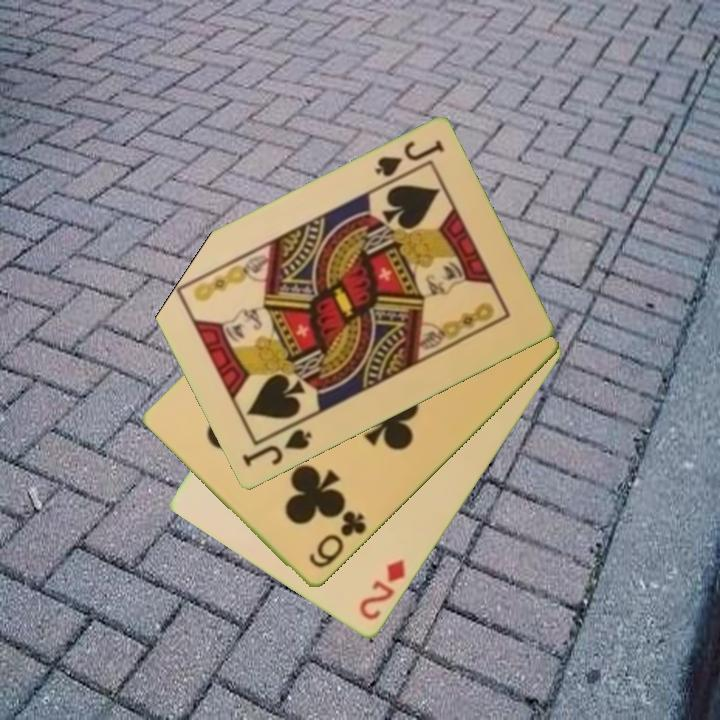2d: (355, 556, 409, 624)
6c: (305, 507, 370, 572)
Js: (371, 137, 447, 189), (238, 426, 315, 470)
